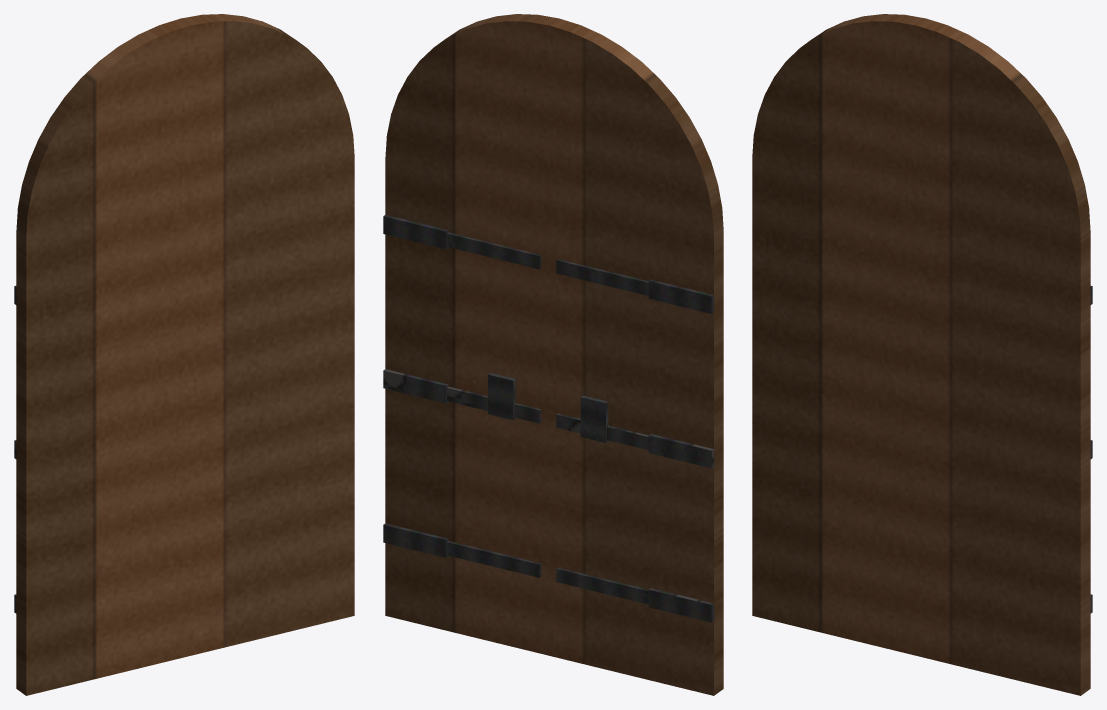
The model's file is CastleKeepDoor.glb.
3 views of the same model, side by side, from view 1: azimuth 30°, elevation 25°; view 2: azimuth 150°, elevation 25°; view 3: azimuth 330°, elevation 25° (orthographic).
Visible parts, largest first — view 1: CastleKeepDoor_L, CastleKeepDoor_R; view 2: CastleKeepDoor_L, CastleKeepDoor_R; view 3: CastleKeepDoor_R, CastleKeepDoor_L.
Boxes of the visible parts, bbox=[...] form: CastleKeepDoor_L: bbox=[14, 18, 190, 695]; CastleKeepDoor_R: bbox=[181, 14, 354, 655]; CastleKeepDoor_L: bbox=[488, 18, 723, 695]; CastleKeepDoor_R: bbox=[383, 14, 608, 655]; CastleKeepDoor_R: bbox=[916, 18, 1092, 695]; CastleKeepDoor_L: bbox=[752, 14, 925, 655].
Size of the model in its own units: 1.56 by 2.86 by 0.102.
Materials: 2 (2 with a texture image).
